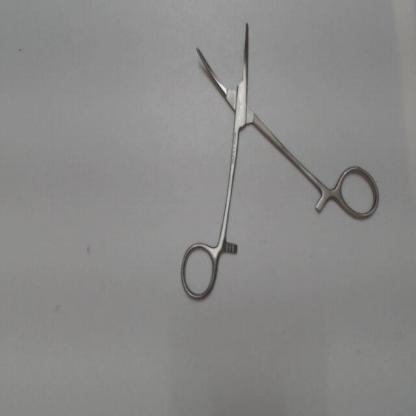Crile Artery Forceps: (176, 10, 384, 305)
